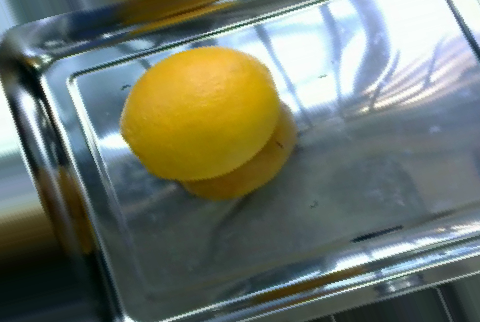Orange: (118, 45, 280, 181)
